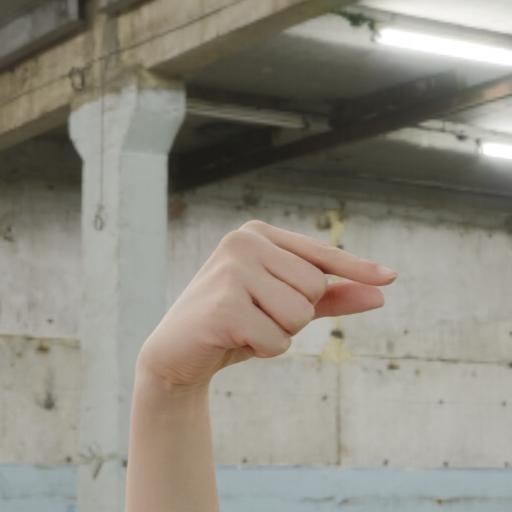G: (125, 218, 398, 402)
